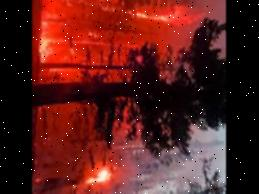fire: (36, 0, 180, 62), (76, 155, 128, 194)
